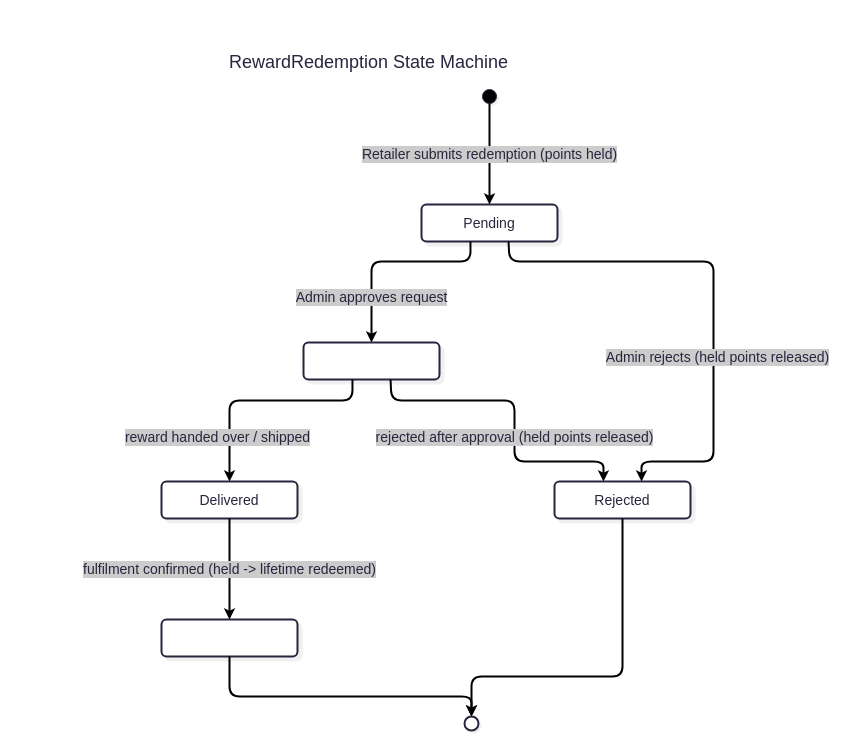
Image size: 846x750. Some labels were removed from this diagram. Here are the shapes that lost their labels. From the top down, the centre of each, then its label:
At (x=373, y=362): "Approved".
At (x=231, y=639): "Completed".
